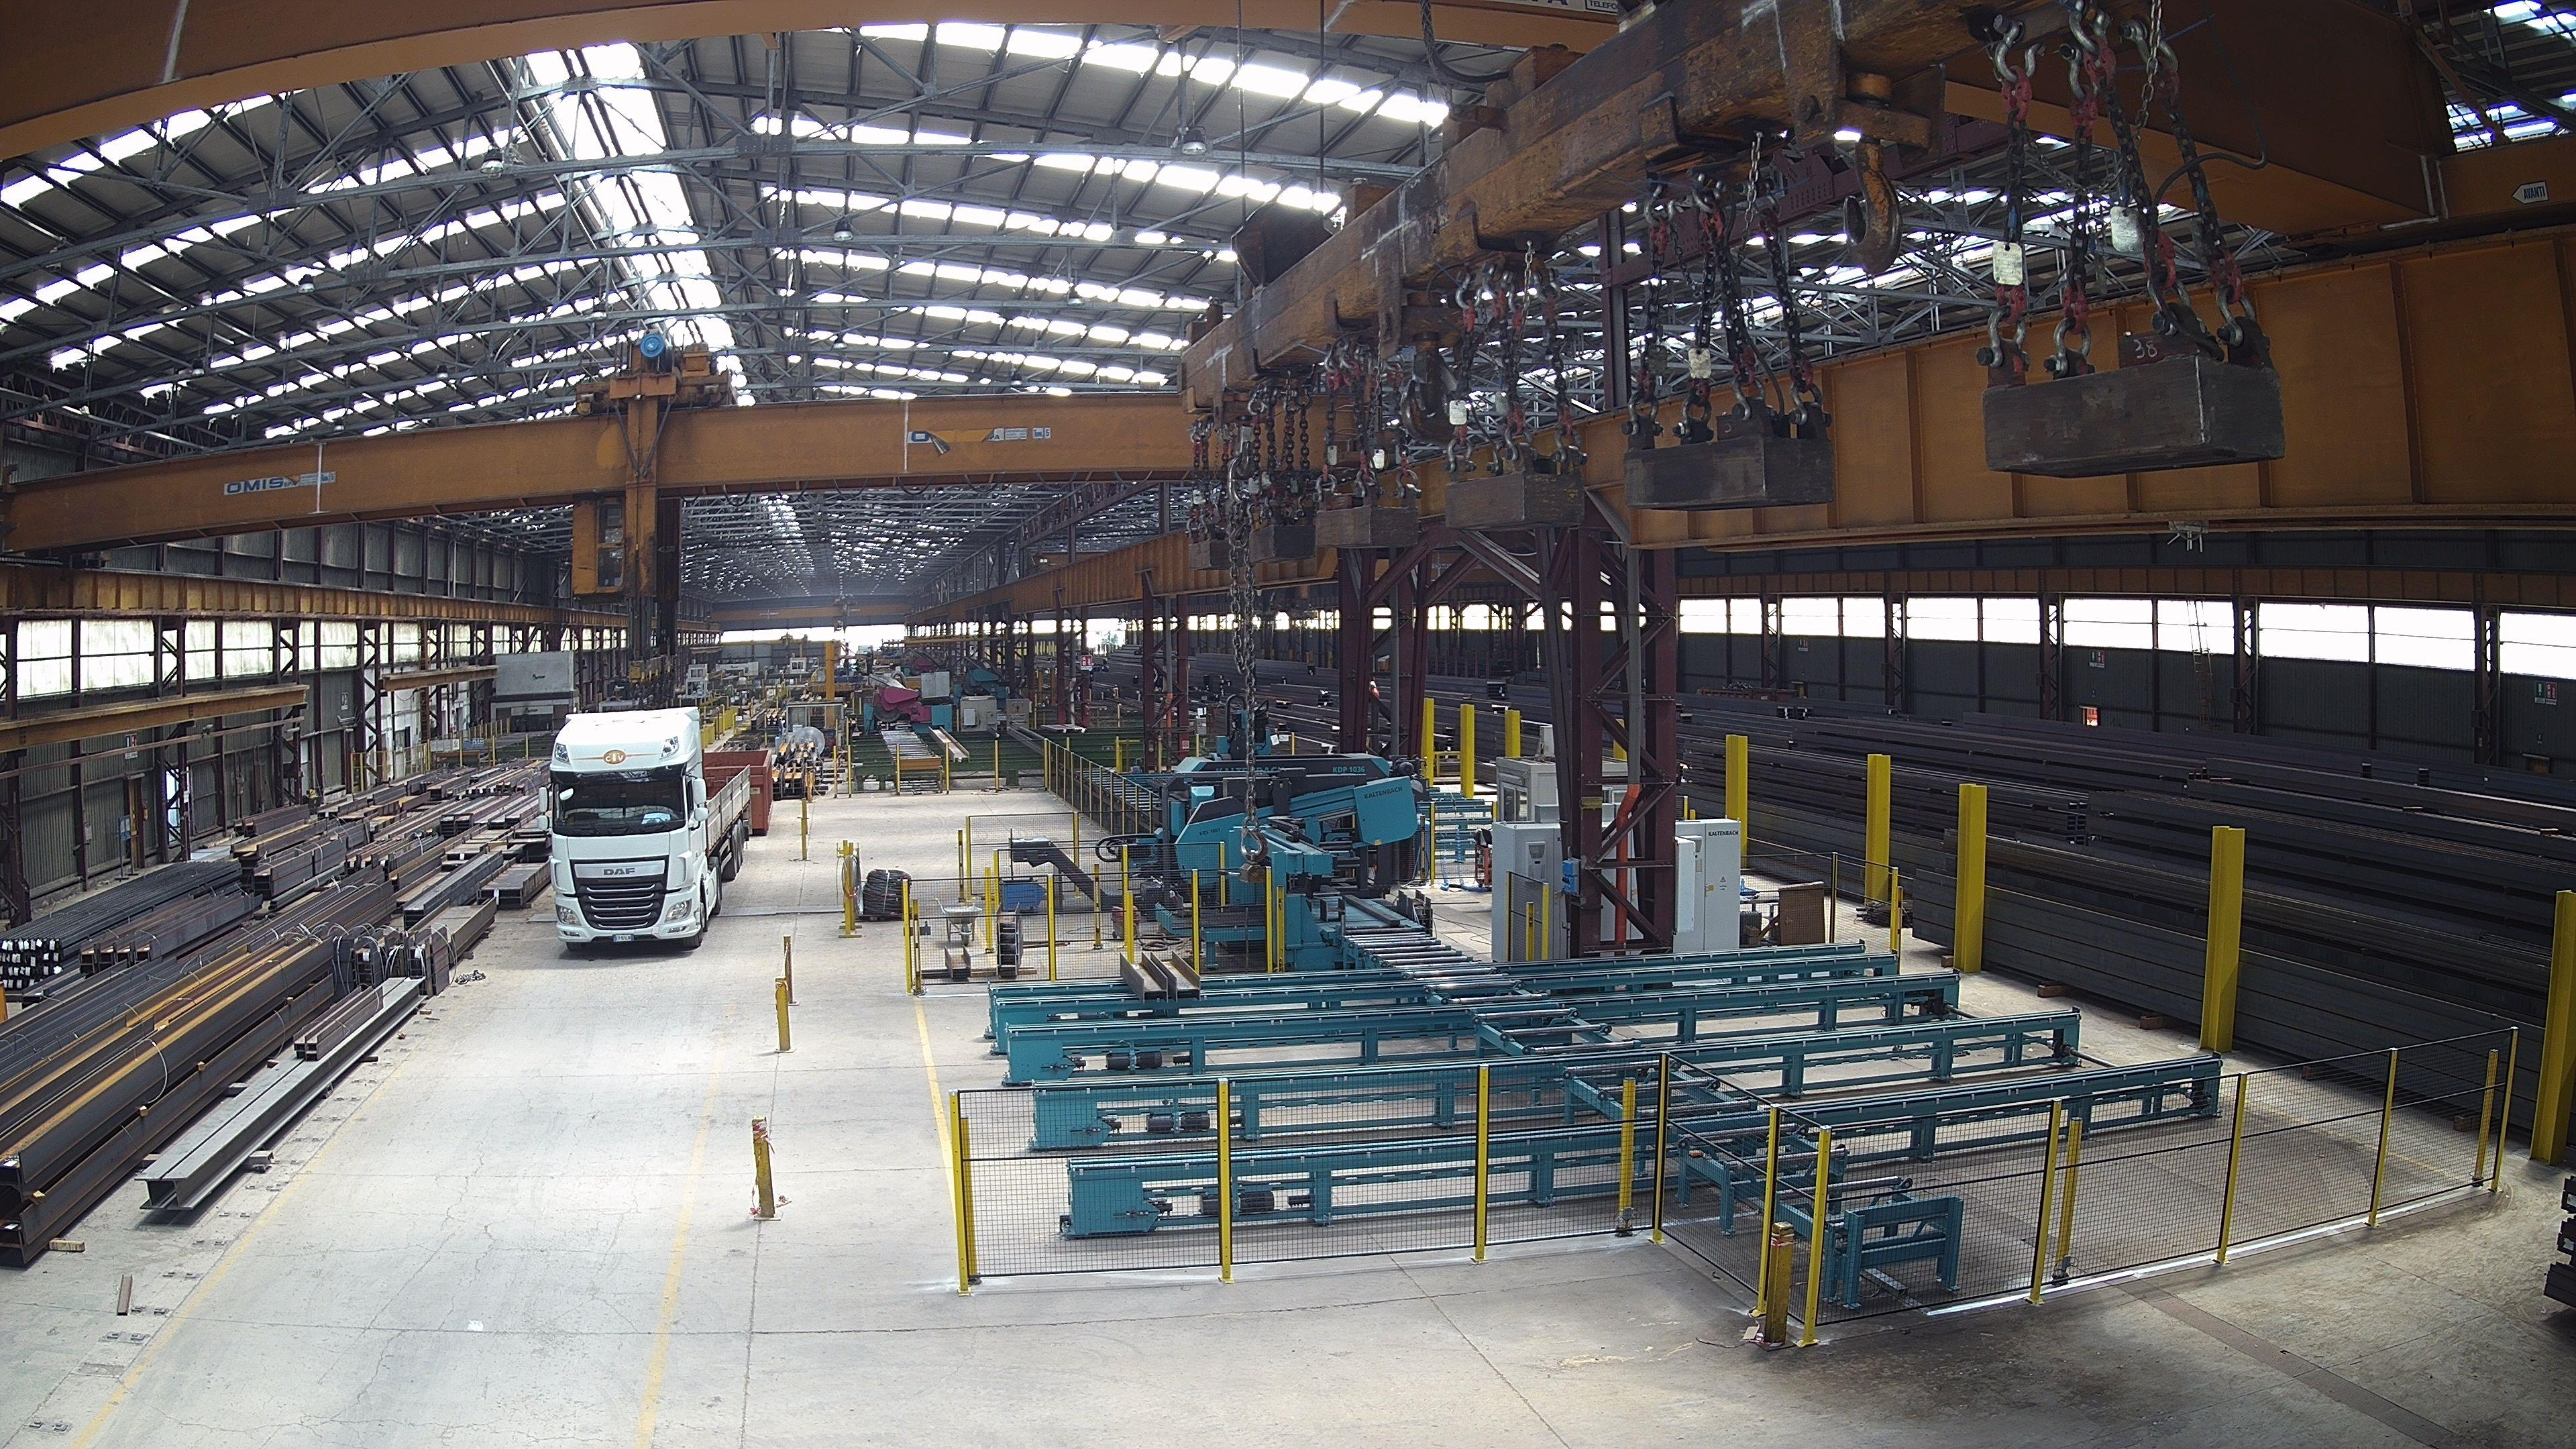Trucks: (552, 709, 755, 978)
